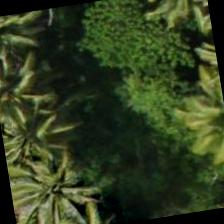Kelapa_Sawit: (4, 136, 104, 223), (0, 83, 79, 184), (0, 41, 61, 140), (0, 9, 53, 75)
